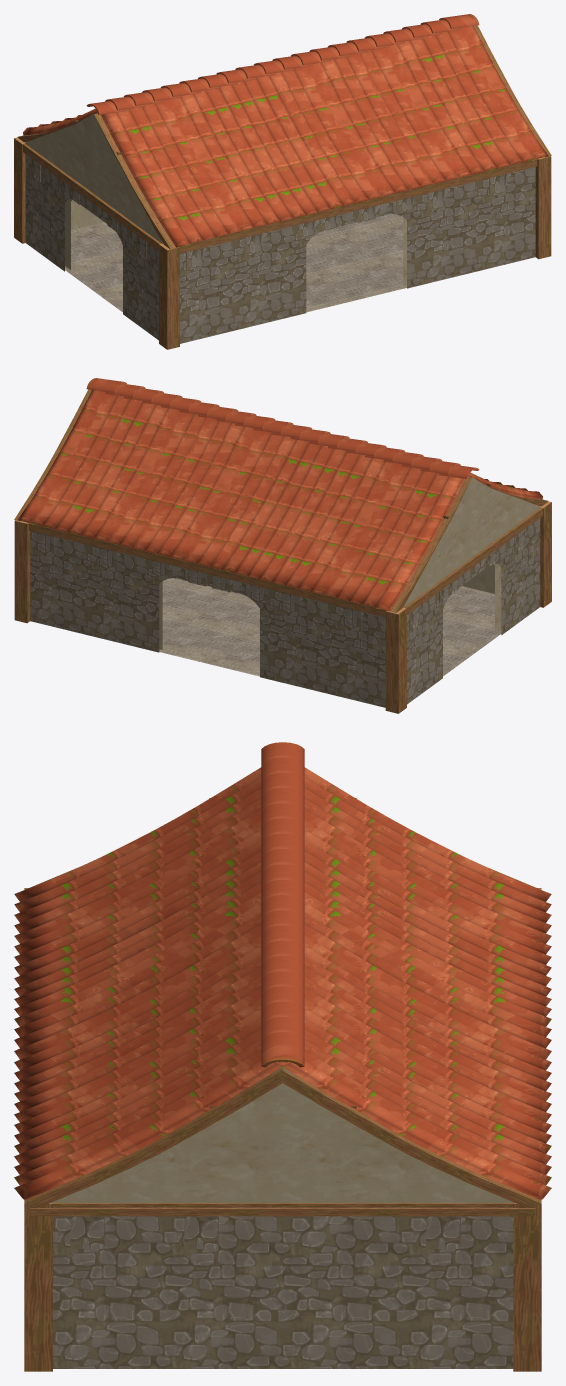
Rendered from BuildingAnimation_Modular.glb.
3 renders of one model, top to bottom at view 1: azimuth 30°, elevation 25°; view 2: azimuth 150°, elevation 25°; view 3: azimuth 270°, elevation 25°, orthographic. The views are drawn at different scales.
Visible parts, largest first — view 1: BA_Roof_03, BA_Wall_01, BA_Floor_01, BA_Trim_01, BA_Roof_01, BA_Roof_02, BA_Wall_02; view 2: BA_Roof_03, BA_Wall_01, BA_Floor_01, BA_Trim_01, BA_Roof_01, BA_Roof_02, BA_Wall_02; view 3: BA_Roof_03, BA_Wall_01, BA_Roof_01, BA_Roof_02, BA_Trim_01.
Part boxes in pixels (x1,y1,x2,y2): BA_Roof_03: [23, 14, 548, 247]; BA_Wall_01: [25, 154, 535, 343]; BA_Floor_01: [65, 214, 406, 312]; BA_Trim_01: [14, 137, 551, 349]; BA_Roof_01: [24, 113, 162, 243]; BA_Roof_02: [18, 25, 551, 248]; BA_Wall_02: [65, 199, 406, 285]; BA_Roof_03: [17, 378, 542, 611]; BA_Wall_01: [30, 518, 540, 707]; BA_Floor_01: [159, 578, 501, 676]; BA_Trim_01: [14, 501, 551, 713]; BA_Roof_01: [89, 390, 541, 607]; BA_Roof_02: [14, 389, 548, 612]; BA_Wall_02: [159, 563, 501, 649]; BA_Roof_03: [14, 742, 551, 1200]; BA_Wall_01: [53, 1216, 513, 1368]; BA_Roof_01: [51, 1068, 514, 1202]; BA_Roof_02: [24, 798, 541, 1215]; BA_Trim_01: [24, 888, 541, 1371].
Bounding box in the file's own units: 12.65 × 5.92 × 9.07.
Materials: 7 (7 with a texture image).
